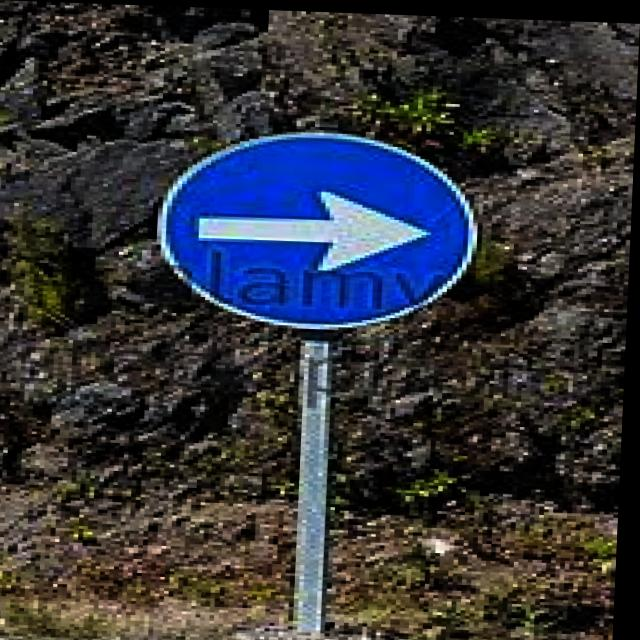COMPULSARY_TURN_RIGHT: (152, 117, 481, 331)
